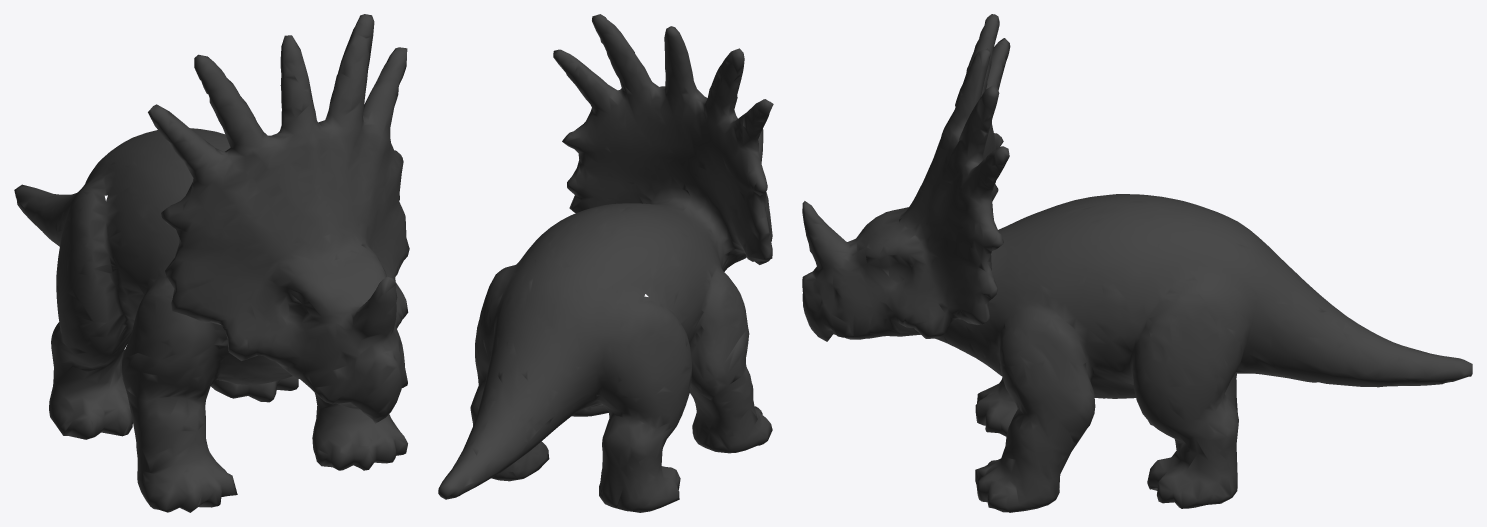
Rendered from styracosaurus.glb.
3 views of the same model, side by side, from view 1: azimuth 30°, elevation 25°; view 2: azimuth 150°, elevation 25°; view 3: azimuth 270°, elevation 25° (orthographic). The views are drawn at different scales.
Visible parts, largest first — view 1: geometry_0; view 2: geometry_0; view 3: geometry_0.
Part boxes in pixels (x1,y1,x2,y2): geometry_0: (14, 14, 409, 512); geometry_0: (438, 14, 773, 512); geometry_0: (802, 14, 1472, 512).
Bounding box in the file's own units: 0.4026 × 0.6761 × 1.
1 material, 1 textured.
